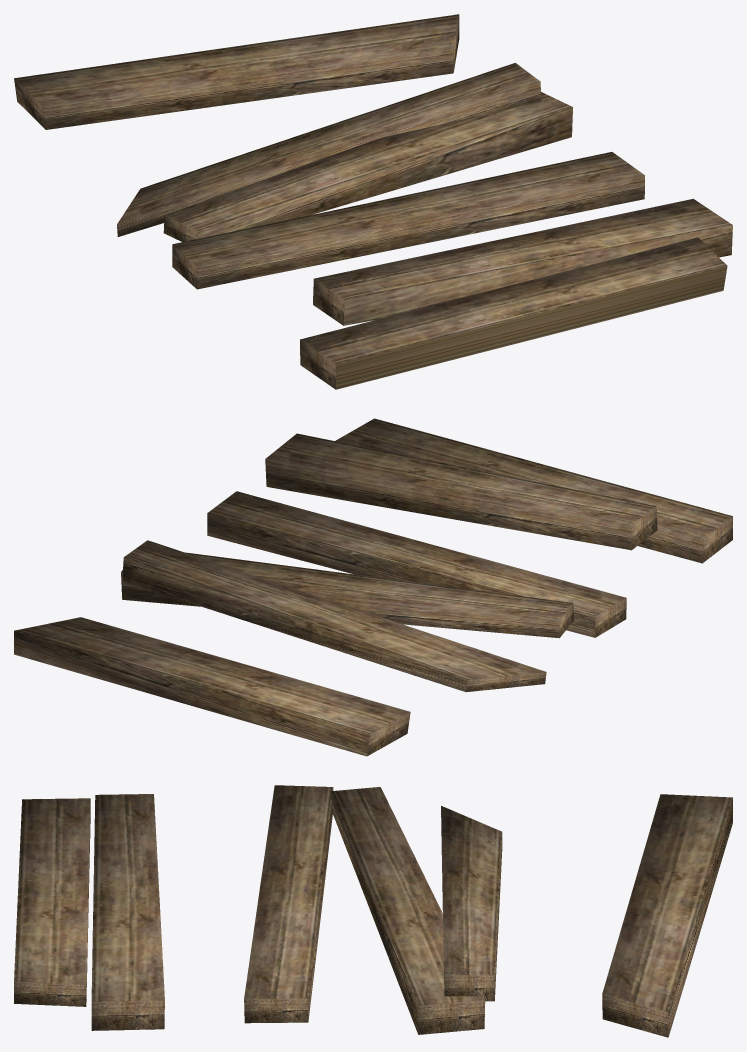
The model's file is S_Build_West072.FBX.
3 views of the same model, one above another, from view 1: azimuth 30°, elevation 25°; view 2: azimuth 150°, elevation 25°; view 3: azimuth 270°, elevation 25° (orthographic). The views are drawn at different scales.
Parts seen in each view (by area): view 1: S_Build_West072; view 2: S_Build_West072; view 3: S_Build_West072.
Boxes of the visible parts, bbox=[...] form: S_Build_West072: bbox=[14, 14, 732, 389]; S_Build_West072: bbox=[14, 418, 732, 756]; S_Build_West072: bbox=[14, 785, 732, 1037].
Bounding box in the file's own units: 386 × 524 × 42.49.
